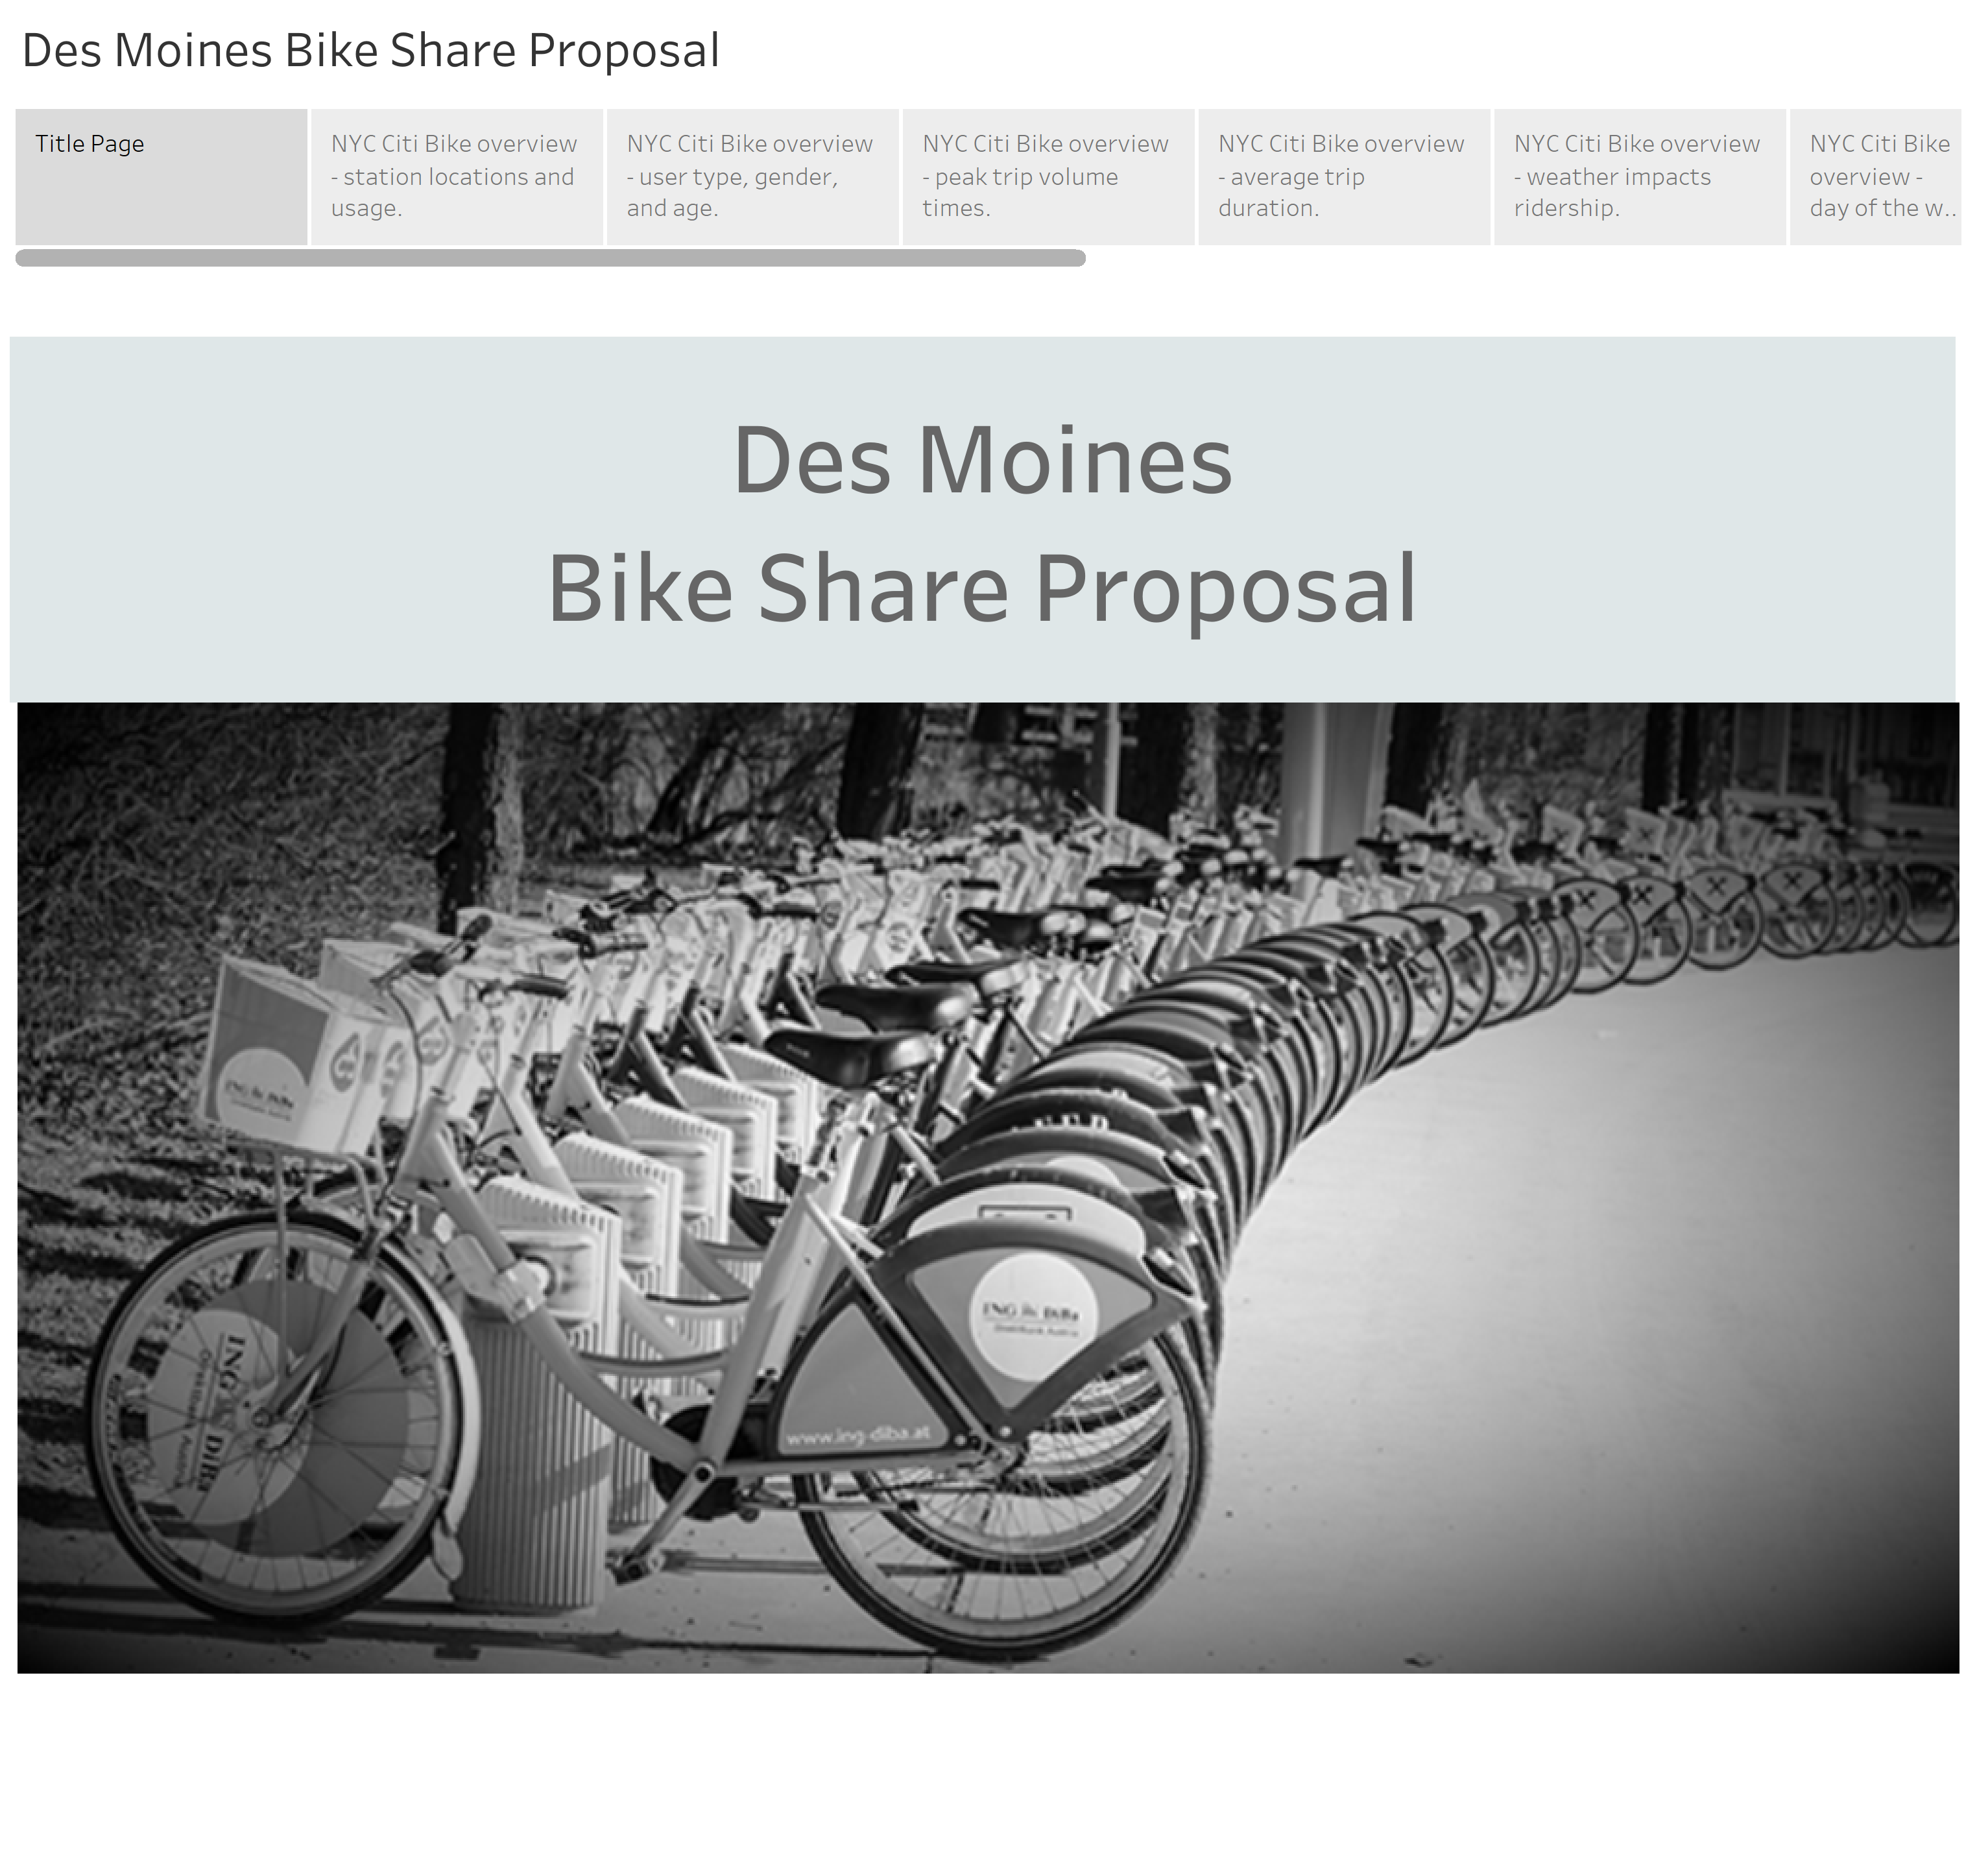

What the dashboard file says about the page in this screenshot:
{"tool":"tableau","page":{"name":"Title Page","canvas":[1000,800],"ordinal":8},"visuals":[{"type":"image","param":"C:/Users/kenww/OneDrive/Desktop/GitHubProjects/Class/bikesharing/citibike_analys","box":[1,219,998,506]}]}

Visuals, with their boxes on the page's 1000x800 design canvas (x1, y1, x2, y2). These are canvas units, not pixel positions in the 1977x1876 screenshot, which may show the page scaled, cropped or inside an application window:
image: region(1, 219, 999, 725)
